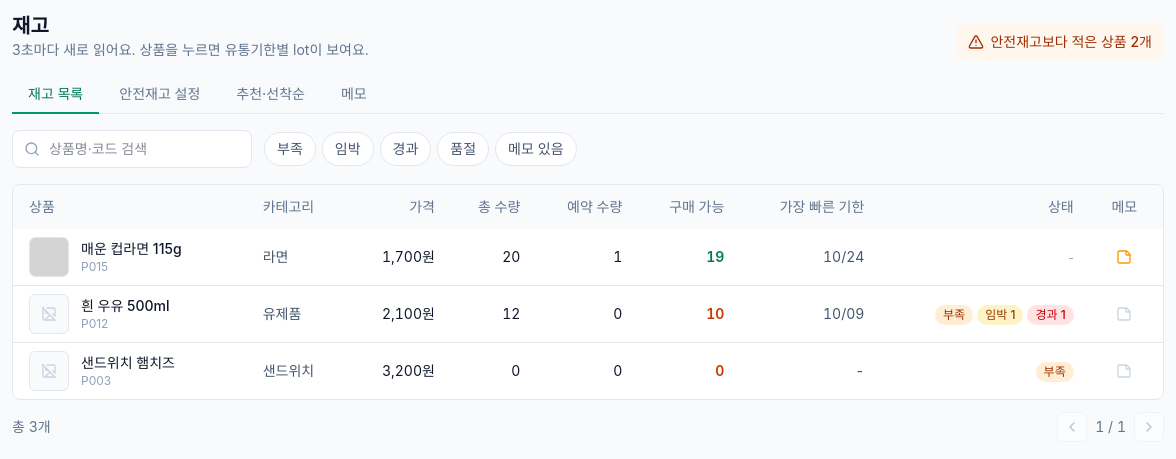
lot 상세 패널 (S-11) › 행을 누르면 그 상품의 lot 을 유통기한·수량·상태 배지와 함께 보여 준다
This screenshot has width=1176, height=459.
Click the text "흰 우유 500ml".
click(125, 306)  # box [81, 296, 170, 316]
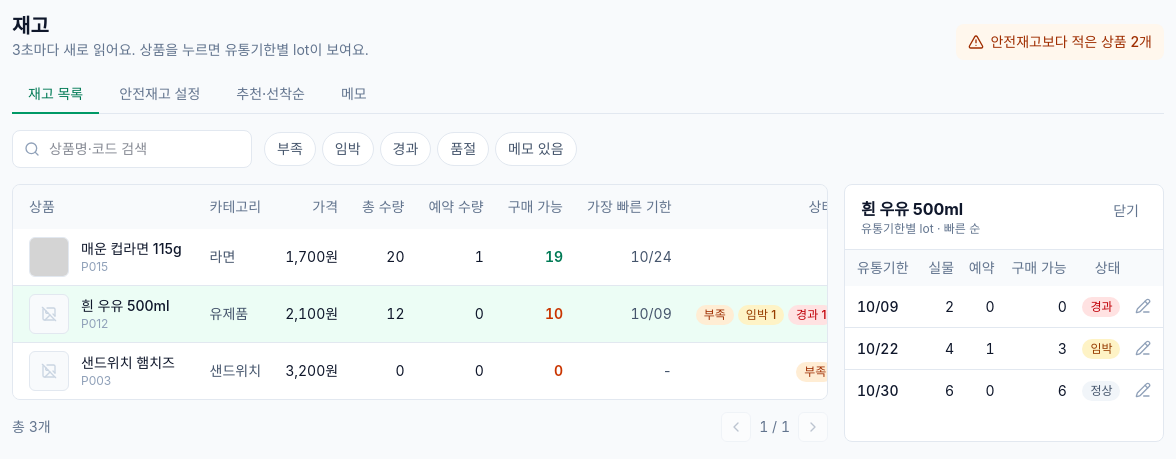
Check: the heading "흰 우유 500ml" is shown, box [861, 197, 980, 221]
Check: the text "경과" is shown, box [1082, 297, 1120, 317]
Check: the text "2" is shown, box [920, 286, 960, 328]
